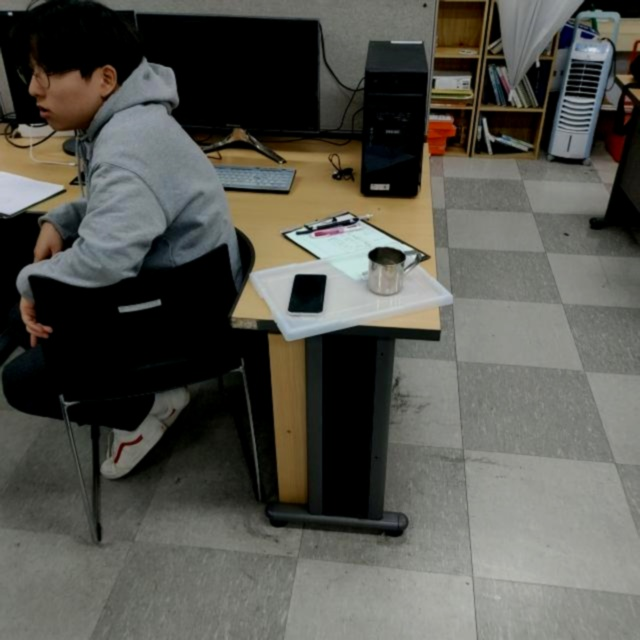cup: (365, 248, 423, 296)
phone: (287, 273, 327, 315)
